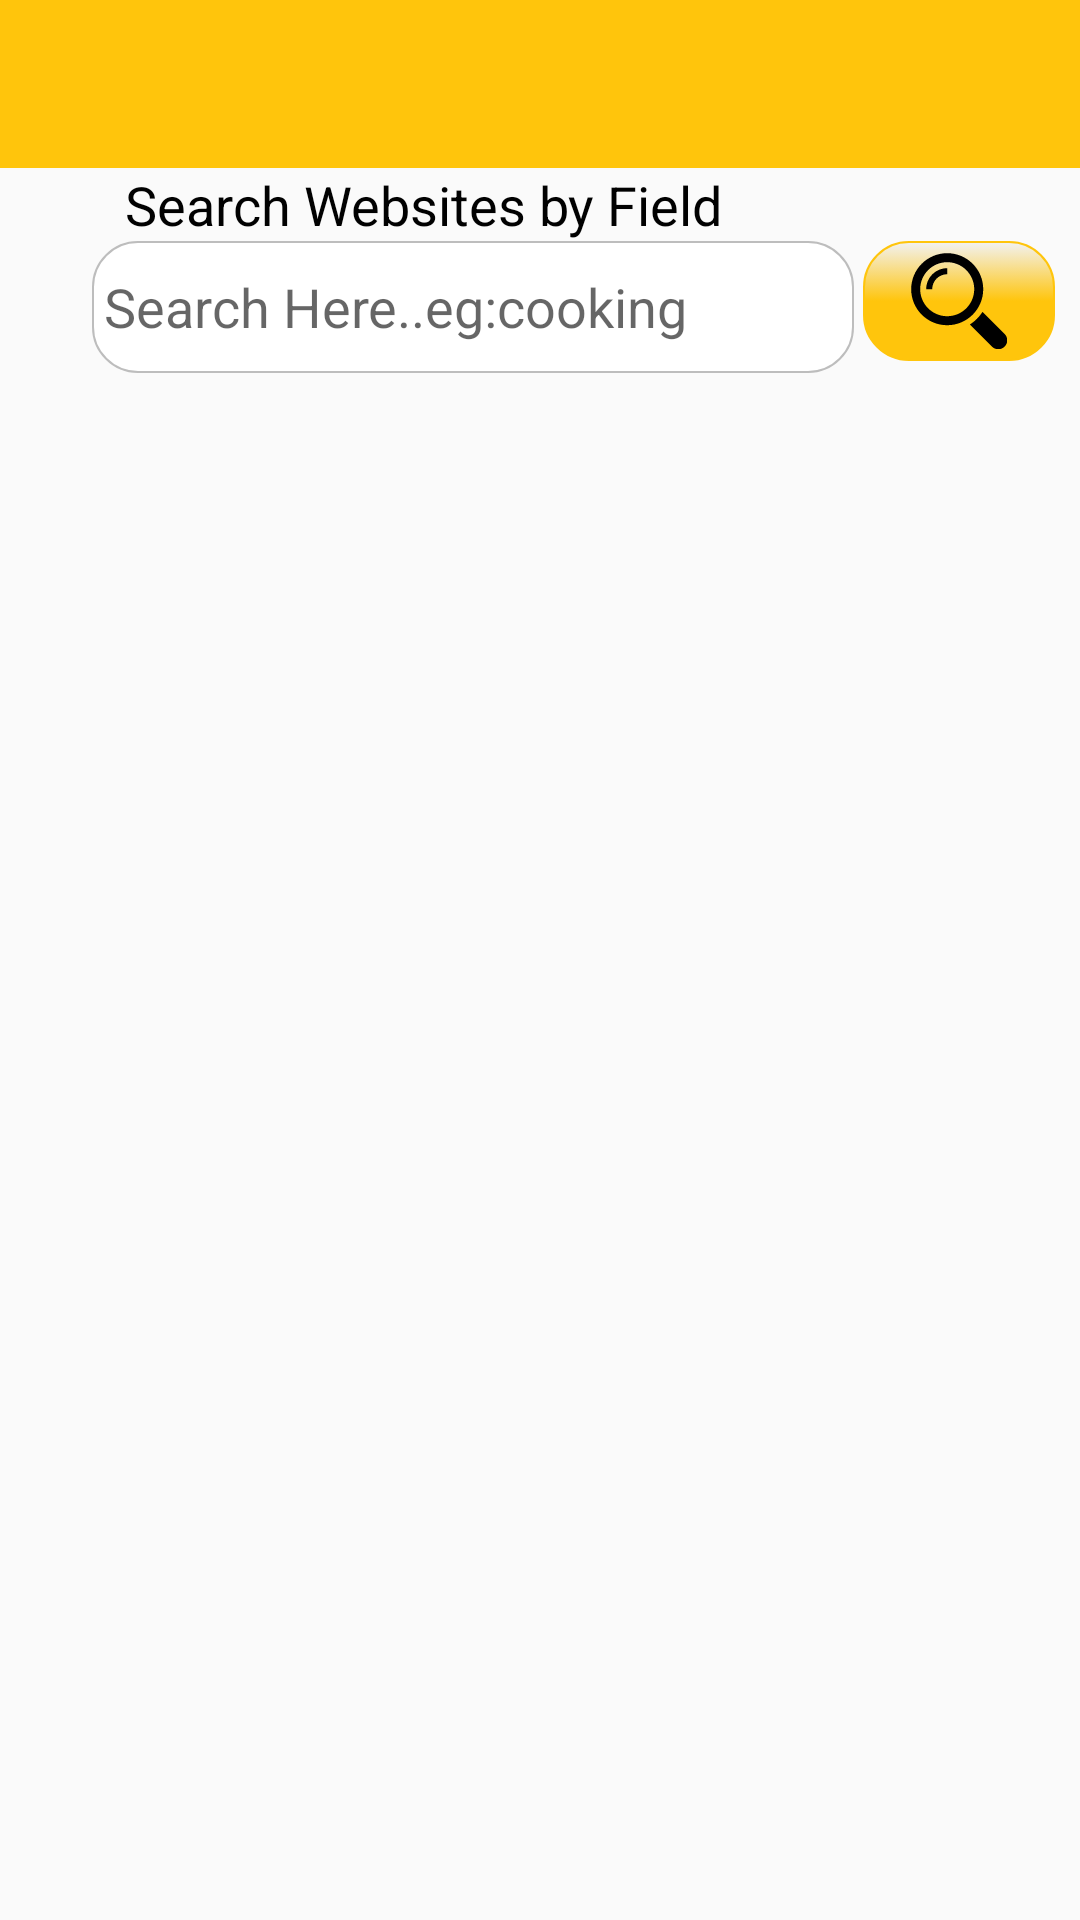

Icon bounding boxes for this 1080x1920 phone screenshot, format bbox(x1, y1, x2, y2):
magnifier: bbox(863, 241, 1055, 361)
